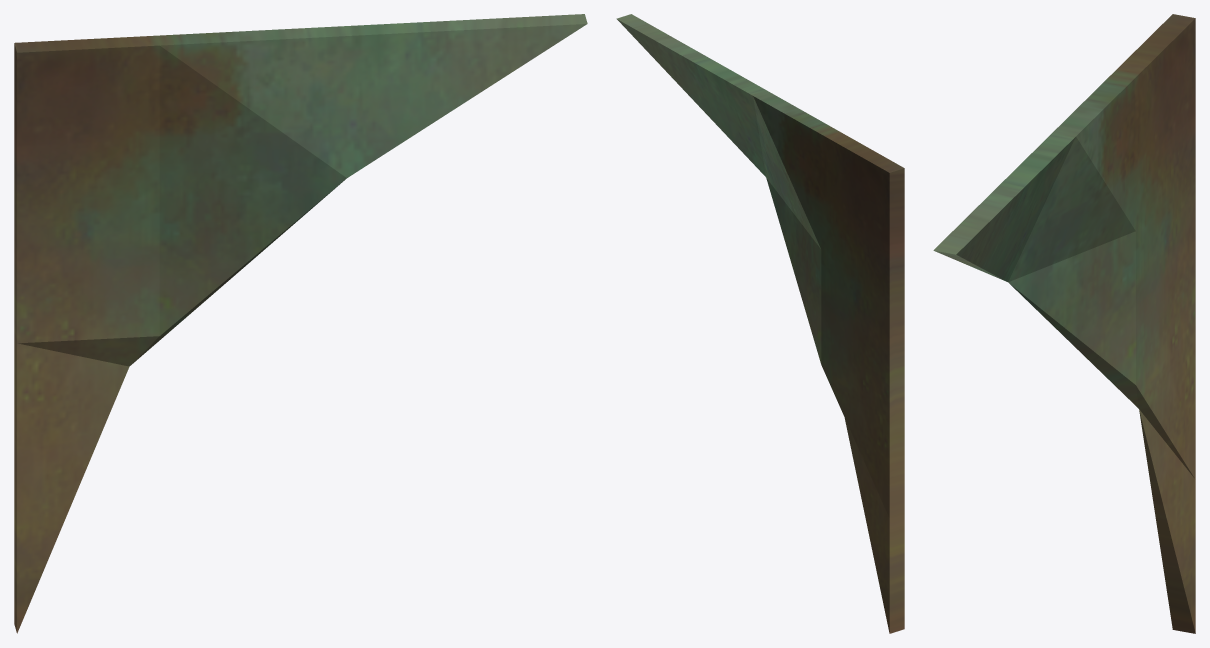
File: GH_1_EmbL_3.gltf
3 renders of one model, left to right at view 1: azimuth 30°, elevation 25°; view 2: azimuth 150°, elevation 25°; view 3: azimuth 270°, elevation 25°, orthographic. The views are drawn at different scales.
Visible parts, largest first — view 1: GH_1_EmbL_3; view 2: GH_1_EmbL_3; view 3: GH_1_EmbL_3.
Part boxes in pixels (x1,y1,x2,y2): GH_1_EmbL_3: (14,14,587,633); GH_1_EmbL_3: (616,14,904,633); GH_1_EmbL_3: (933,14,1195,633).
Bounding box in the file's own units: 1.17 × 1.4 × 0.5411.
1 material, 1 textured.
